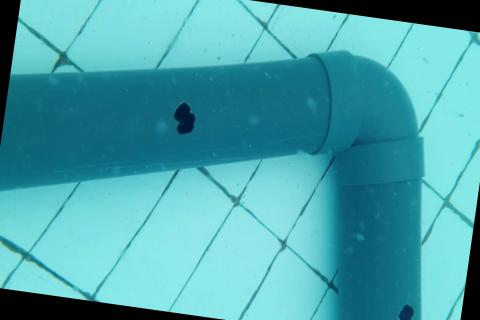kebocoran: (170, 99, 198, 136), (397, 302, 415, 320)
